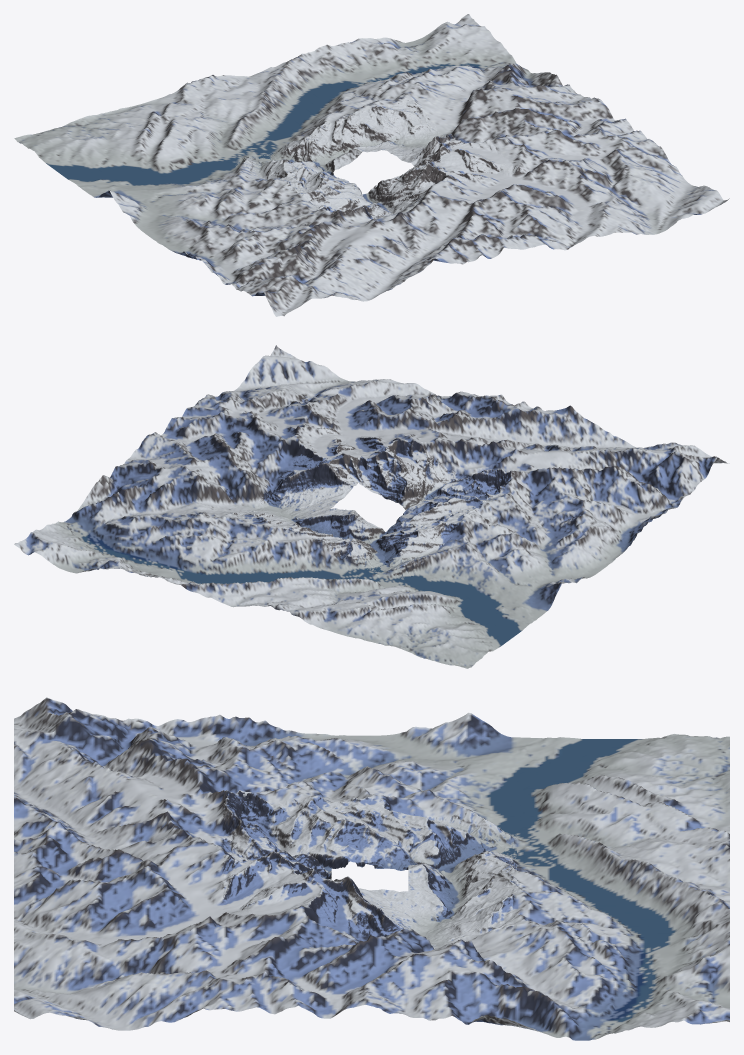
The model's file is panorama.glb.
The picture shows the model from 3 angles, top to bottom: view 1: azimuth 30°, elevation 25°; view 2: azimuth 150°, elevation 25°; view 3: azimuth 270°, elevation 25°; orthographic projection. The views are drawn at different scales.
Parts seen in each view (by area): view 1: Panorama_Far, Panorama_Near; view 2: Panorama_Far, Panorama_Near; view 3: Panorama_Far, Panorama_Near.
Part boxes in pixels (<box>): Panorama_Far: <box>14,14,729,316</box>; Panorama_Near: <box>227,98,520,218</box>; Panorama_Far: <box>14,345,729,668</box>; Panorama_Near: <box>226,428,517,580</box>; Panorama_Far: <box>14,697,729,1040</box>; Panorama_Near: <box>222,790,516,945</box>.
Bounding box in the file's own units: 43800 × 3644 × 43800.
